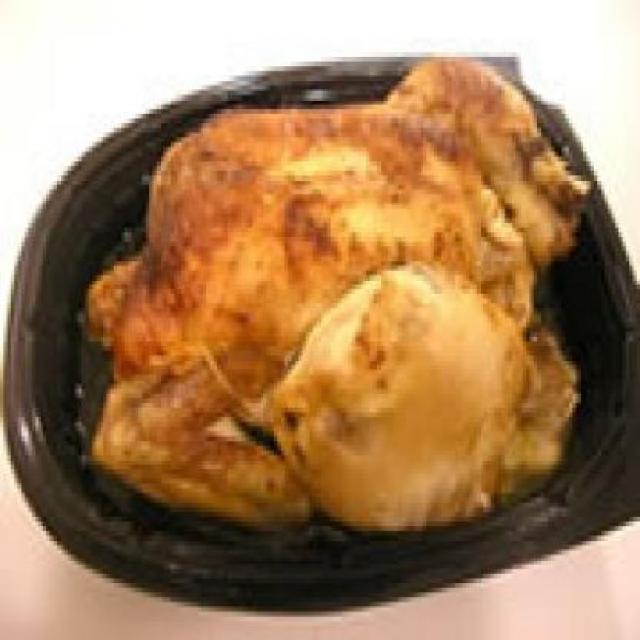Chicken roast: (121, 184, 587, 530)
